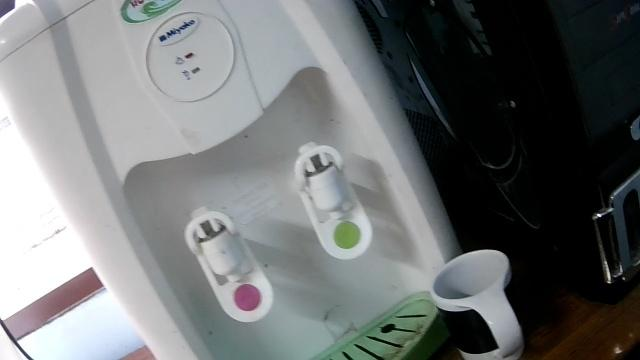Dispenser: (0, 0, 463, 359)
